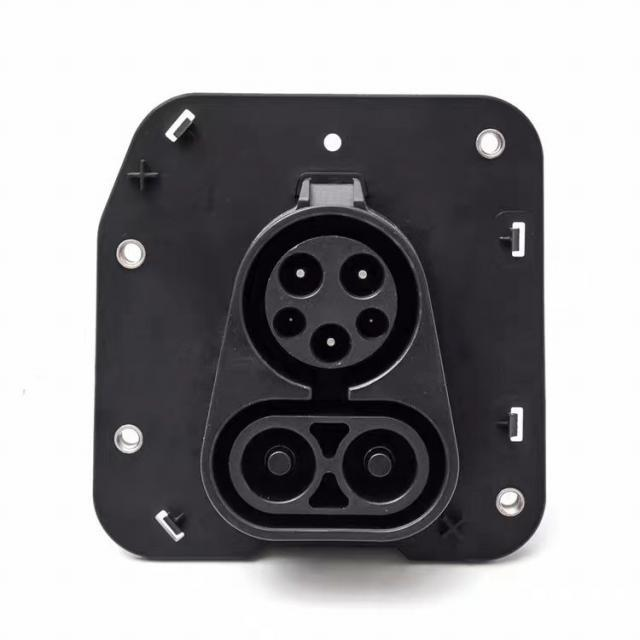CCS1: (158, 176, 520, 577)
